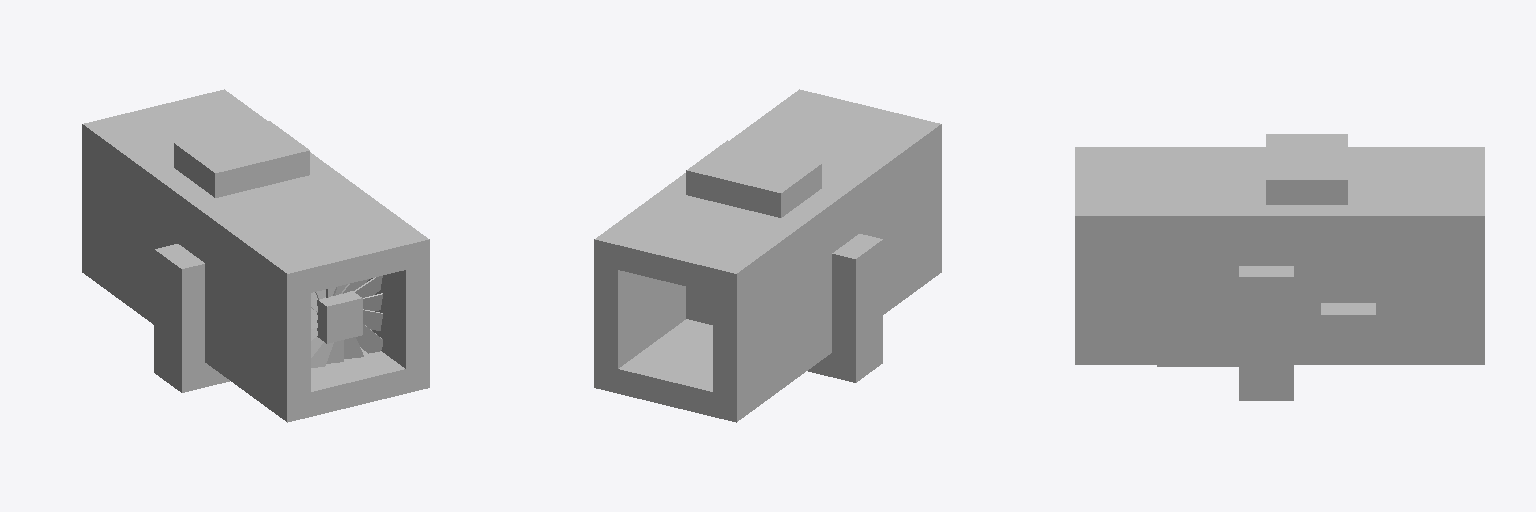
Rendered from enginepw610f.obj.
3 renders of one model, left to right at view 1: azimuth 30°, elevation 25°; view 2: azimuth 150°, elevation 25°; view 3: azimuth 270°, elevation 25°, orthographic.
Parts seen in each view (by area): view 1: cube, intake_fan; view 2: cube; view 3: cube.
Boxes of the visible parts, x1=… form: cube: x1=82, y1=89, x2=429, y2=422; intake_fan: x1=311, y1=276, x2=382, y2=367; cube: x1=594, y1=89, x2=941, y2=422; cube: x1=1075, y1=134, x2=1484, y2=400.
Size of the model in its own units: 0.5 by 0.5 by 0.9375.